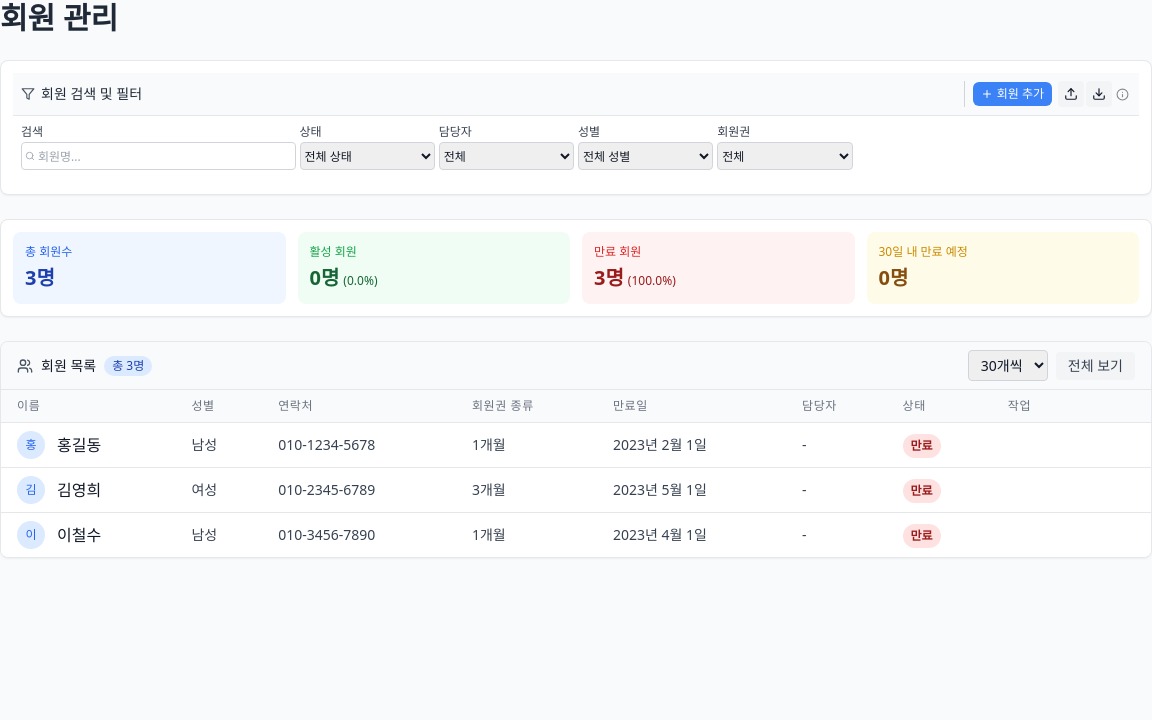
Test: Members 페이지 › "새 회원 추가" 버튼 클릭 시 회원 추가 모달이 열려야 한다
This screenshot has width=1152, height=720.
Click the button "회원 추가" at (1012, 94), box left=973, top=82, right=1052, bottom=106
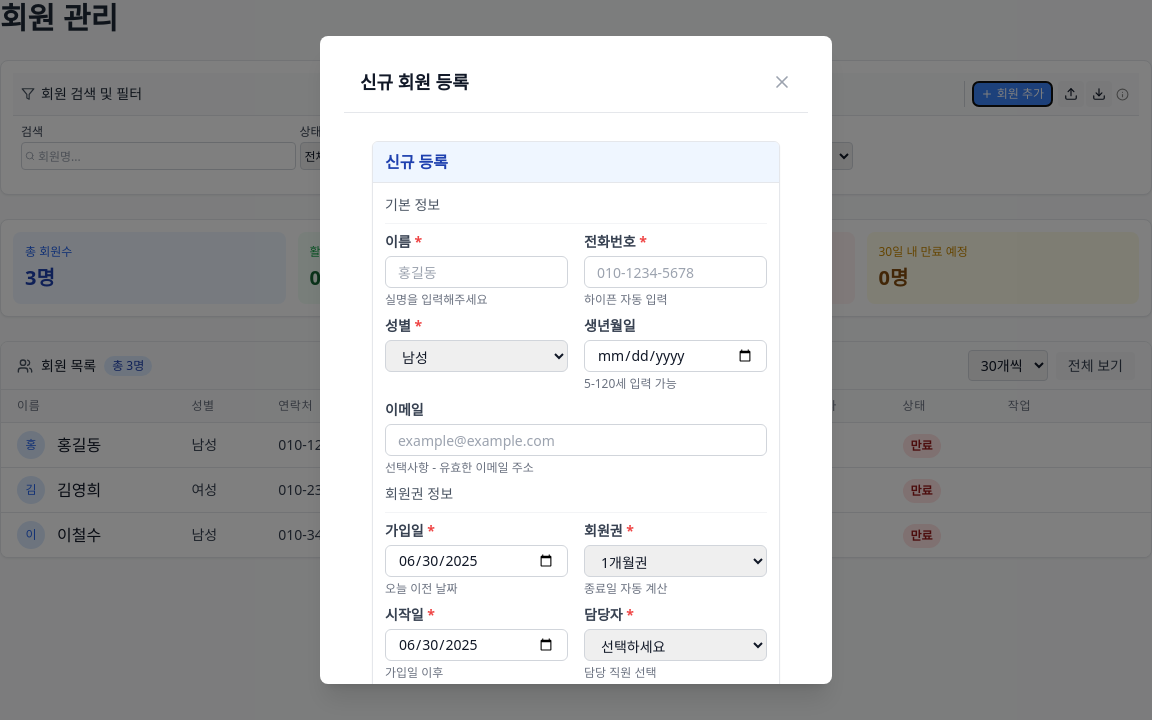
Check: the dialog is shown
Check: the dialog shows "신규 회원 등록", box left=360, top=70, right=469, bottom=94
